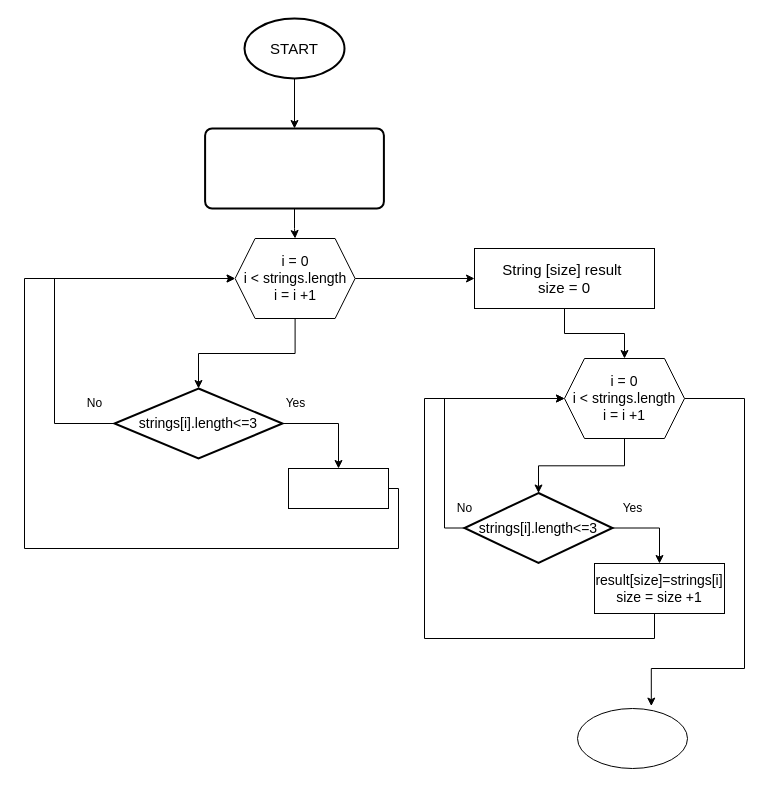
Some shapes in this 770 by 786 pixel diagram are drawn without their labels. The centre of each missing label's shape, as x and y in pixels:
END: (x=632, y=738)
size = size + 1: (x=338, y=488)
String [] strings size = 0 String [] result: (x=294, y=168)
